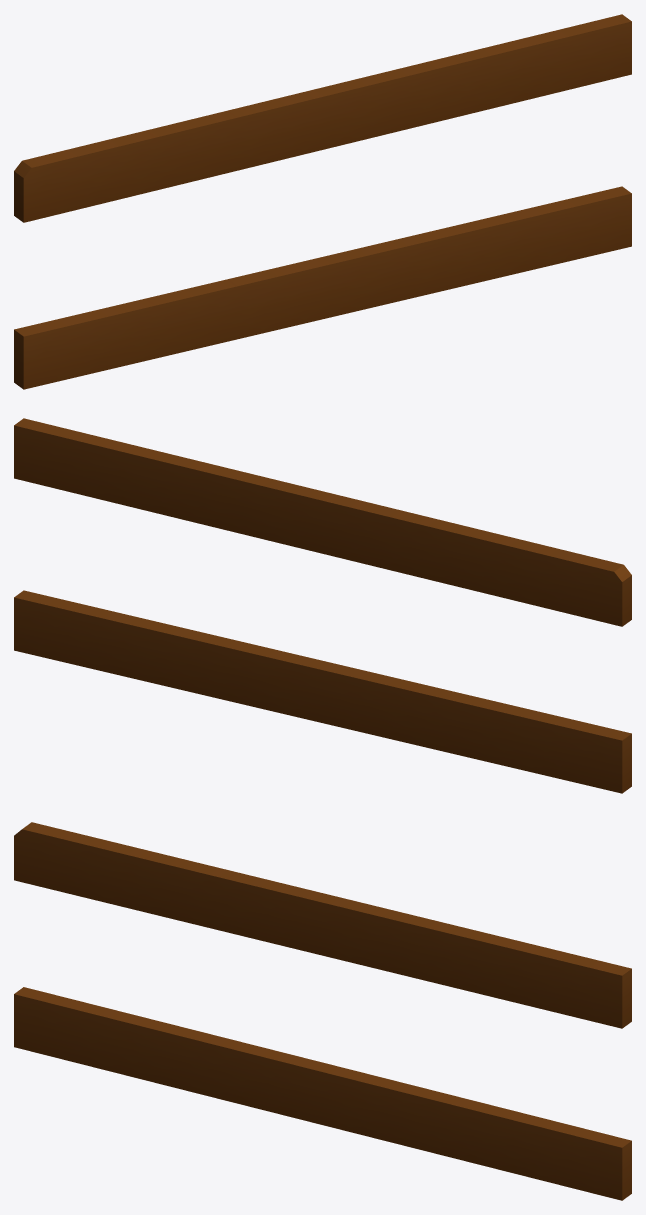
The model's file is Fence_Supports_A.fbx.
The picture shows the model from 3 angles, top to bottom: view 1: azimuth 30°, elevation 25°; view 2: azimuth 150°, elevation 25°; view 3: azimuth 330°, elevation 25°; orthographic projection.
Parts seen in each view (by area): view 1: Fence_Supports_A; view 2: Fence_Supports_A; view 3: Fence_Supports_A.
Part boxes in pixels (x1,y1,x2,y2): Fence_Supports_A: (14,14,631,389); Fence_Supports_A: (14,418,631,793); Fence_Supports_A: (14,822,631,1200).
Bounding box in the file's own units: 180 × 63.66 × 5.
